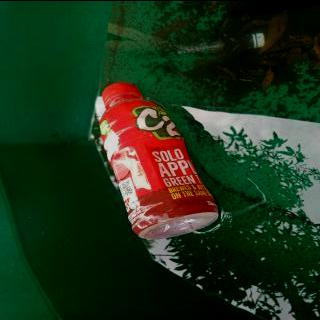bottle: (97, 81, 221, 240)
